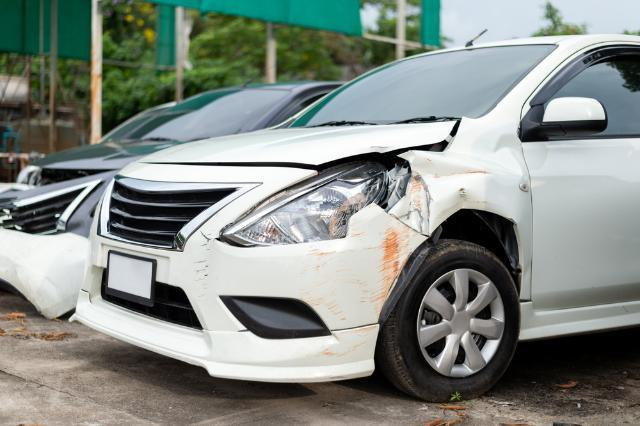dent: (397, 131, 525, 235)
dislocated part: (142, 118, 465, 175), (218, 155, 412, 249)
scratch: (300, 221, 416, 324), (321, 325, 381, 359), (193, 233, 216, 283)
